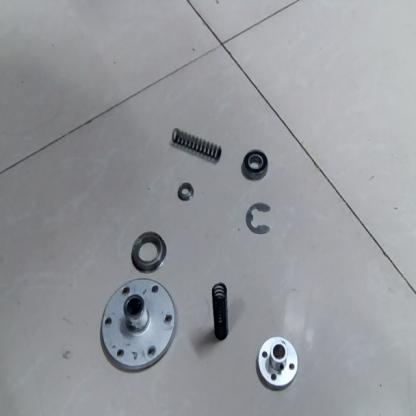FOD: (98, 274, 178, 376), (254, 333, 300, 392), (168, 123, 226, 165), (128, 228, 168, 276), (208, 278, 233, 344), (240, 146, 270, 186), (243, 200, 276, 236), (174, 178, 196, 204)
